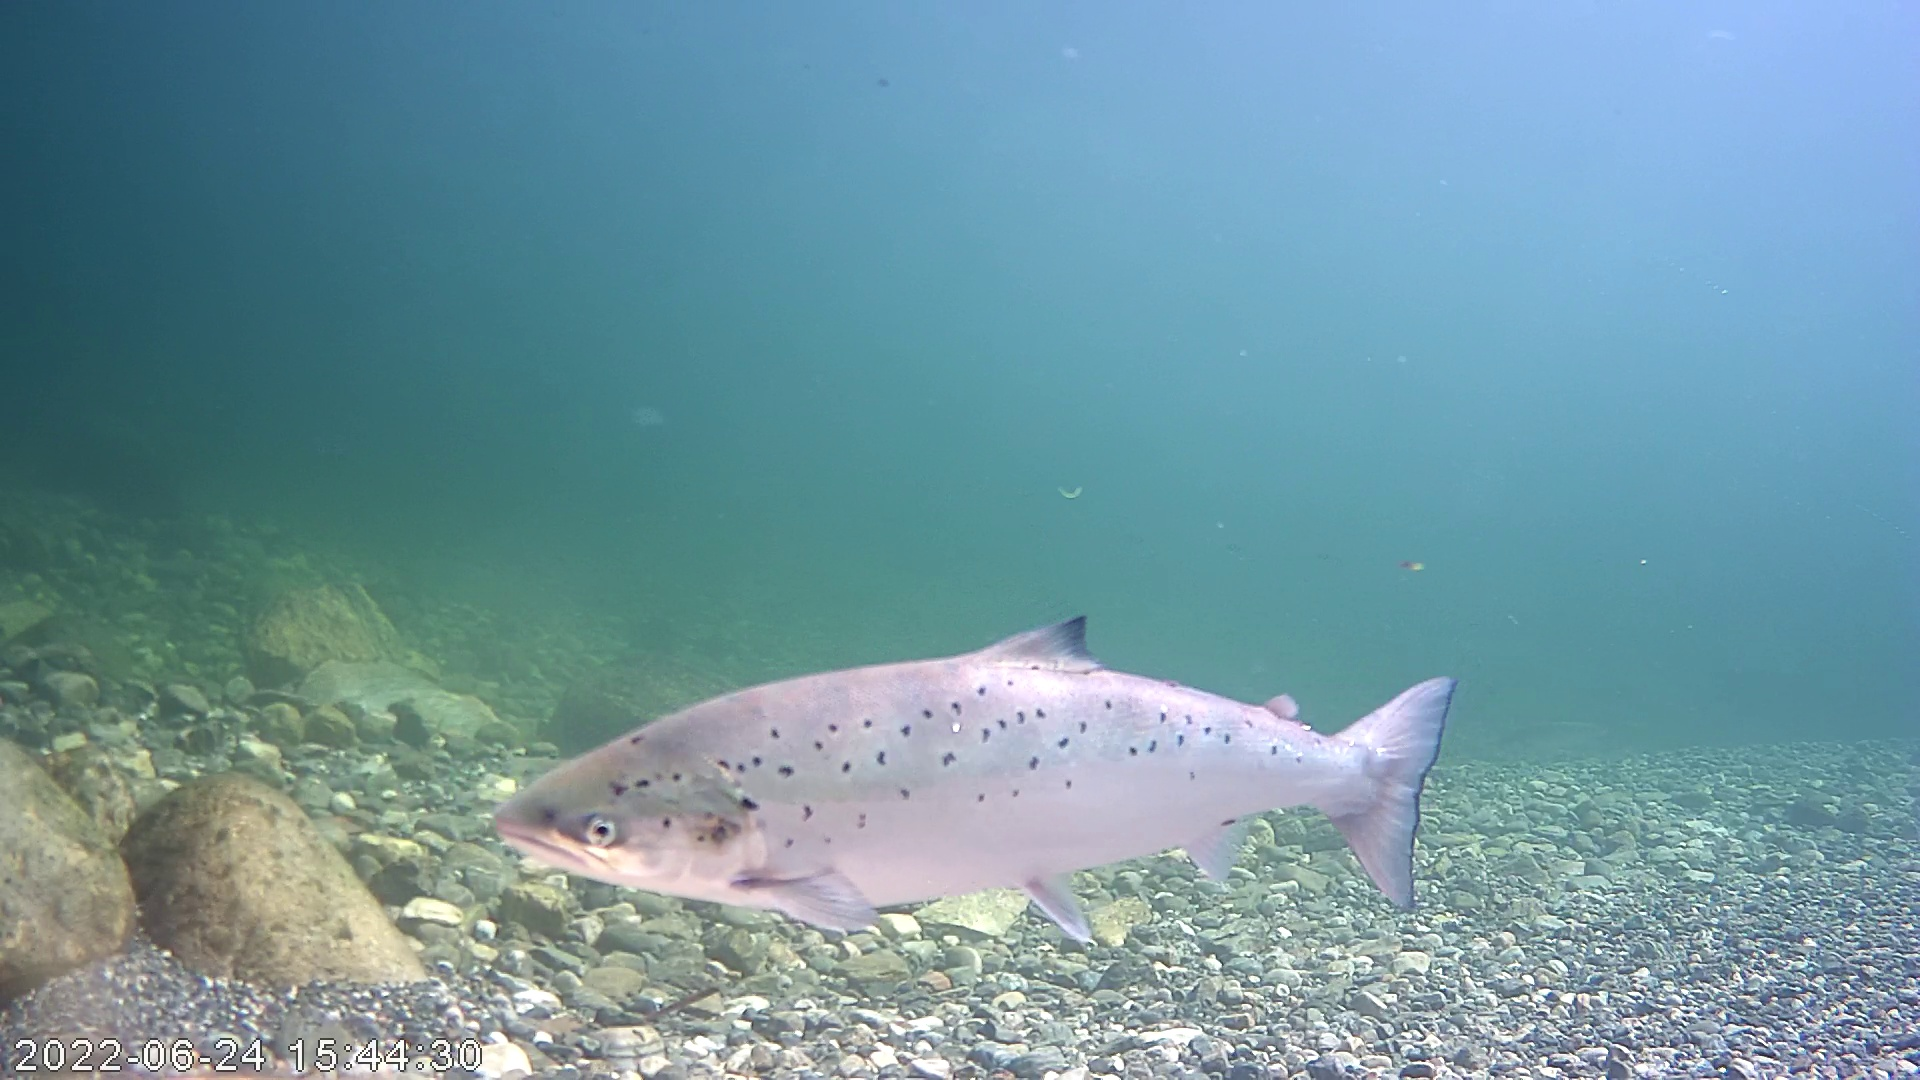salmon: (488, 615, 1460, 942)
